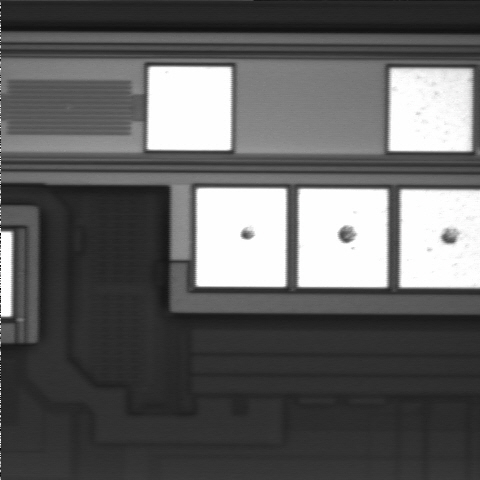pad: (196, 188, 286, 287), (298, 189, 387, 287), (148, 67, 231, 150), (389, 69, 472, 151)
